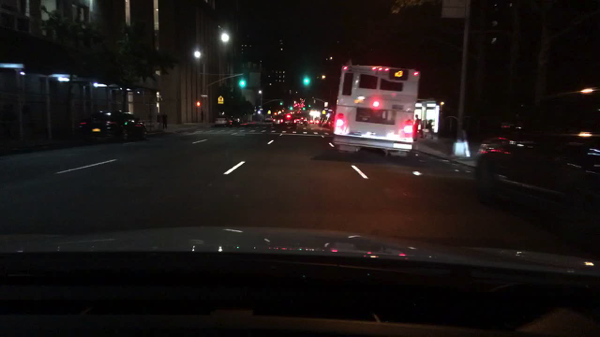bus: (330, 62, 420, 158)
car: (474, 84, 599, 235), (77, 111, 148, 142), (214, 111, 240, 128), (280, 112, 298, 128), (323, 111, 333, 127), (272, 115, 285, 125), (298, 117, 308, 127), (318, 111, 325, 125), (264, 115, 272, 123), (315, 119, 322, 125), (308, 118, 315, 124)
person: (425, 119, 434, 139), (413, 115, 420, 137), (162, 112, 168, 129), (199, 110, 203, 121)
traffic light: (304, 75, 310, 85), (239, 77, 244, 87), (194, 102, 201, 107), (289, 105, 293, 112), (279, 100, 283, 106)
traffic sign: (441, 1, 468, 20), (218, 95, 223, 104), (200, 94, 208, 97), (267, 110, 271, 115), (256, 108, 263, 110)
